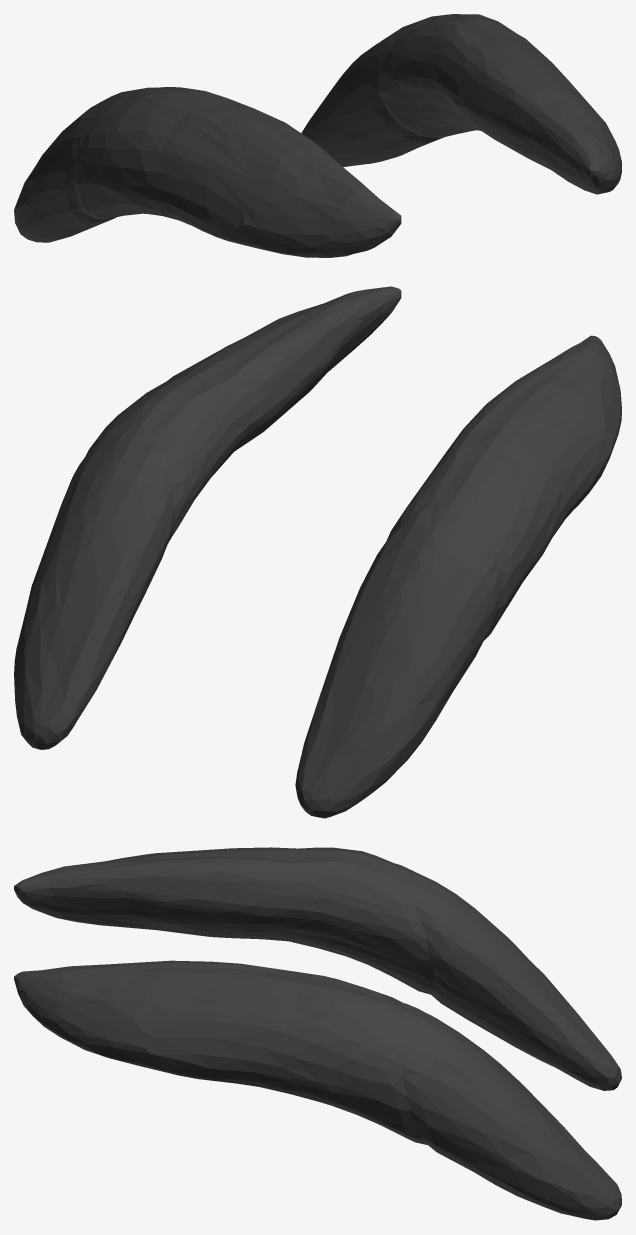
Rendered from m_digastricus.glb.
The picture shows the model from 3 angles, top to bottom: view 1: azimuth 30°, elevation 25°; view 2: azimuth 150°, elevation 25°; view 3: azimuth 270°, elevation 25°; orthographic projection. The views are drawn at different scales.
Parts seen in each view (by area): view 1: m_digastricus; view 2: m_digastricus; view 3: m_digastricus.
Boxes of the visible parts, left/top/right/bottom form: m_digastricus: left=14, top=14, right=621, bottom=257; m_digastricus: left=14, top=286, right=621, bottom=818; m_digastricus: left=14, top=847, right=621, bottom=1220.
Size of the model in its own units: 0.00201 by 0.00115 by 0.00262.
1 material, 1 textured.
